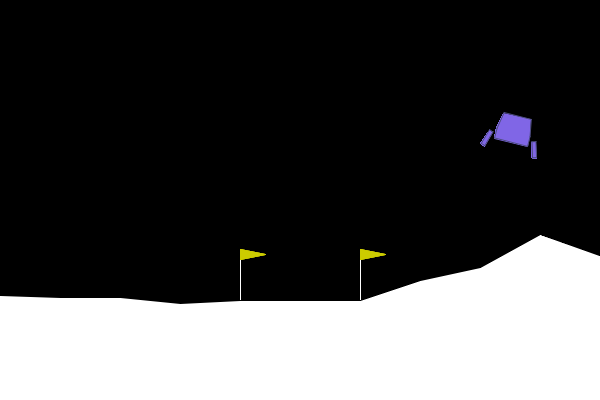lander: (479, 107, 547, 161)
